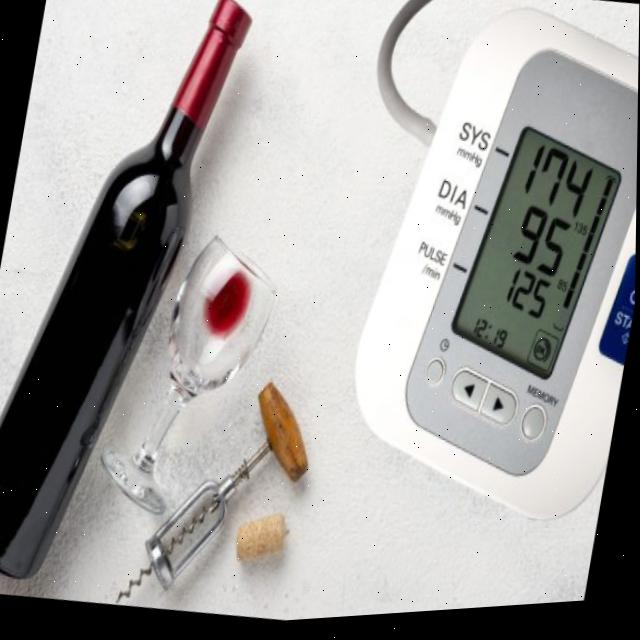dia: (494, 204, 587, 293)
pul: (494, 265, 567, 334)
ssd: (443, 132, 629, 393)
sys: (511, 141, 611, 232)
